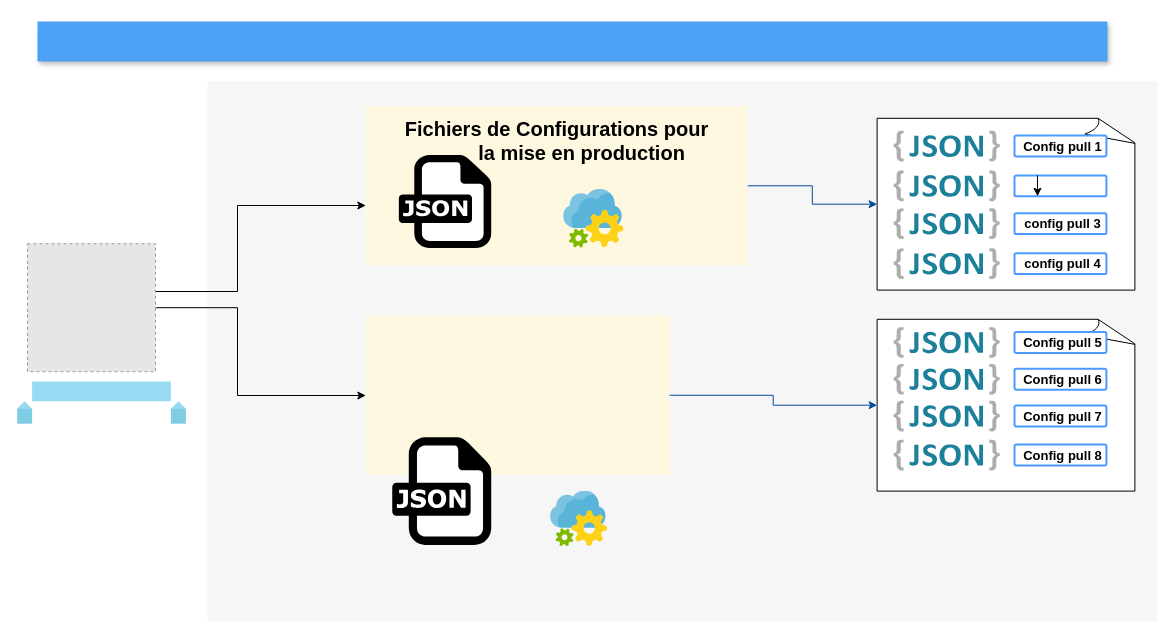
Image size: 1175x638. Some labels were removed from this diagram. Grey dashed boxes stand in for pictures. Here are the shapes that lost their labels. From the top down, the centre of each, then its label:
the point at 573,42: Processus de génération des fichiers de configurations
the point at 1060,185: config pull 2
the point at 101,402: Team CloudOps
the point at 517,394: Fichiers de configurations pour les tests
